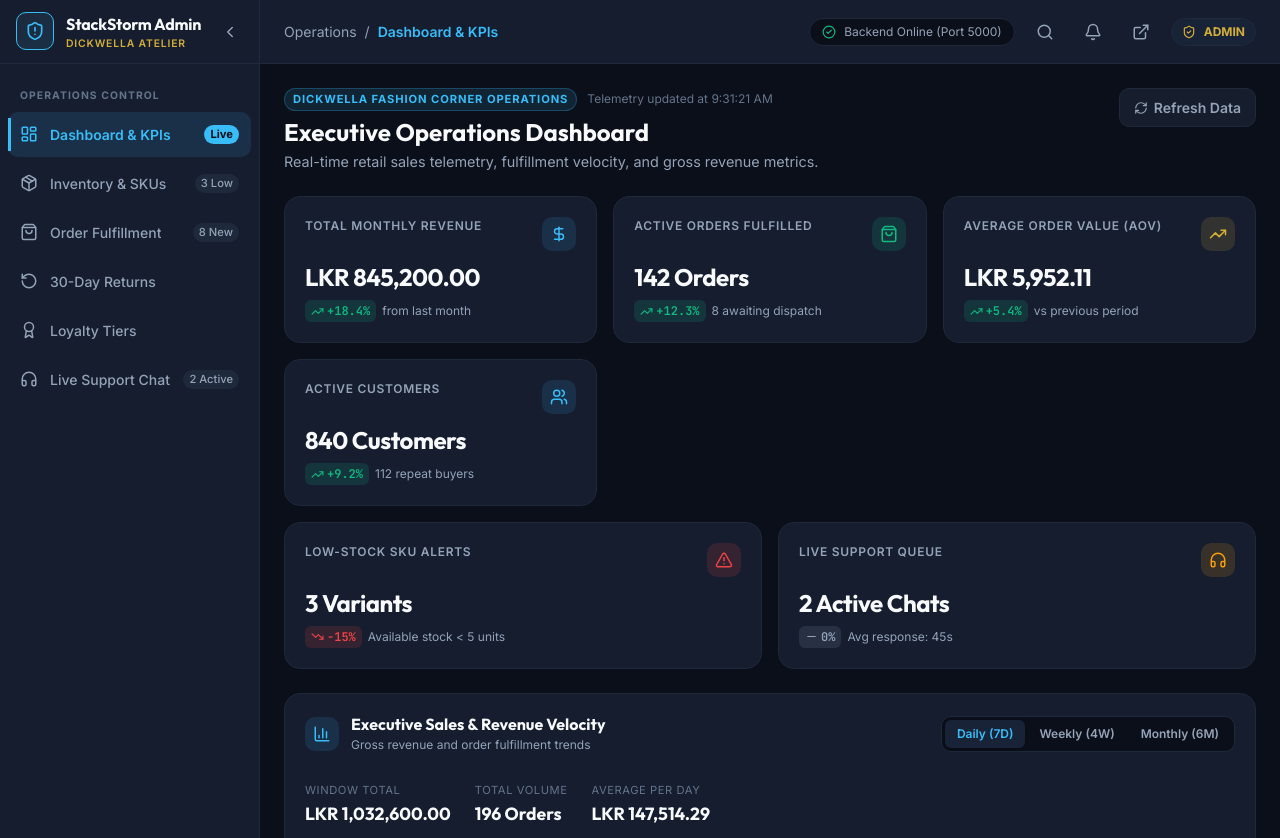
Test: STORM-FE-003: Admin Portal React 18 + Vite Scaffolding & Dark Control Room Design System › AC3: should switch active operational view when a navigation item is clicked
The width and height of the screenshot is (1280, 838).
# Click on Inventory & SKUs
Click the button "Inventory & SKUs 3 Low". click: x=130, y=183
box: [8, 161, 251, 206]
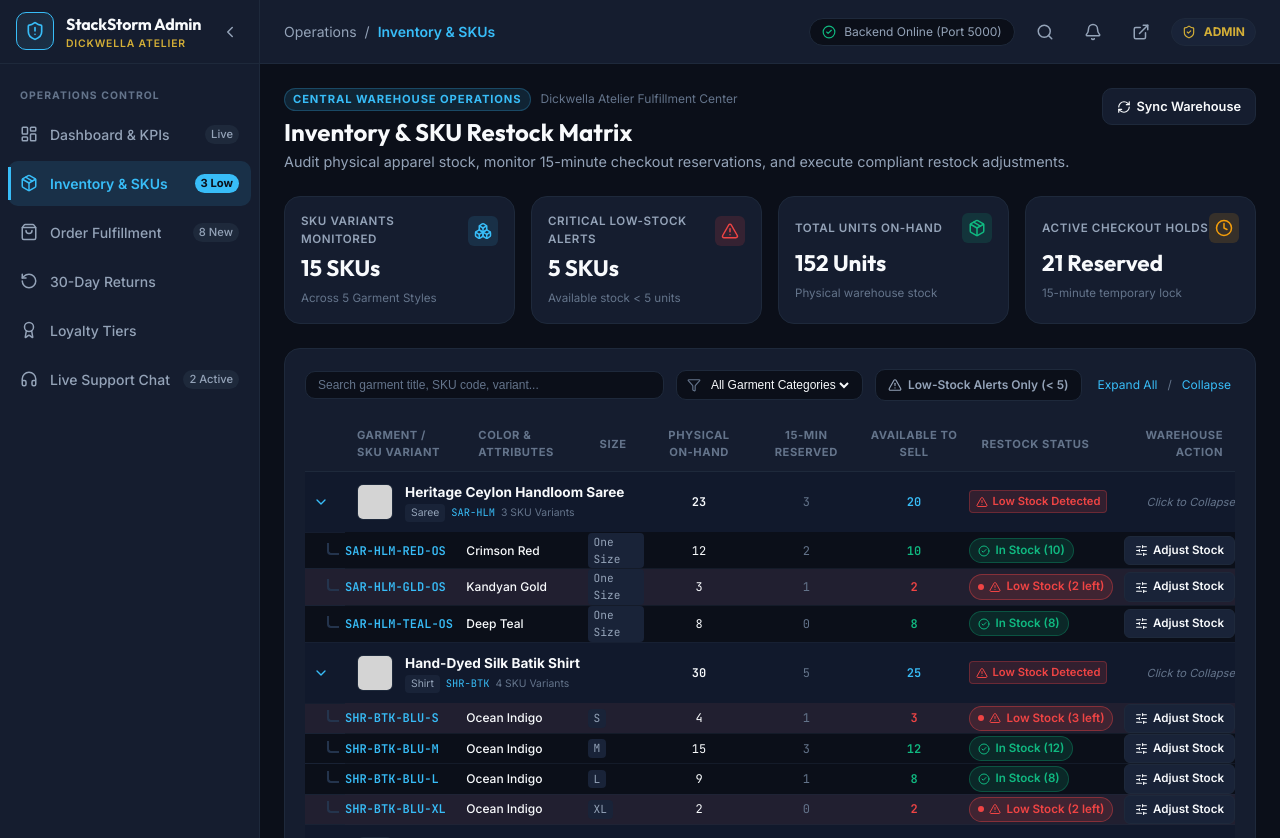
Expected: the heading "Inventory & SKU Restock Matrix" is shown, [284, 117, 632, 147]
# Click on Orders
Click the button "Order Fulfillment 8 New". click: x=130, y=232
box: [8, 210, 251, 255]
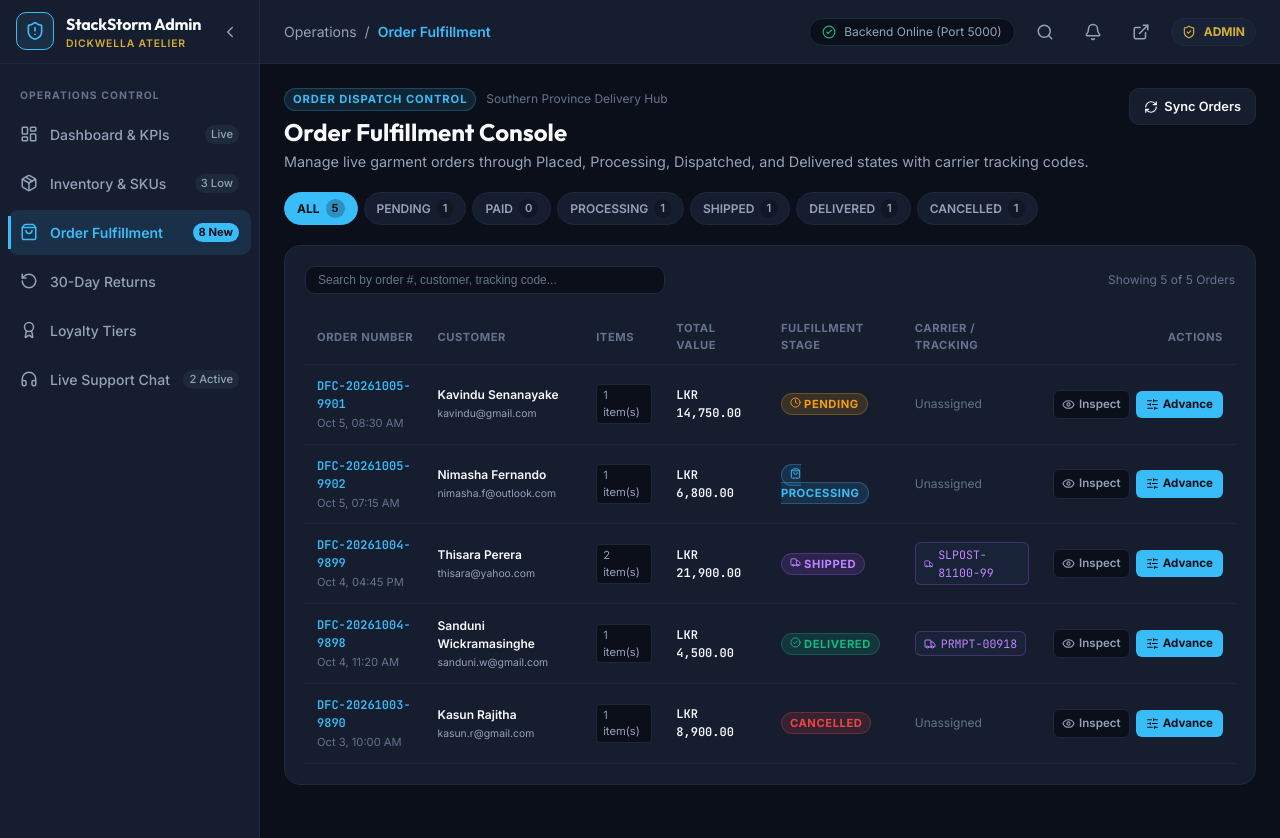
Expected: the heading "Order Fulfillment Console" is shown, [284, 117, 567, 147]
